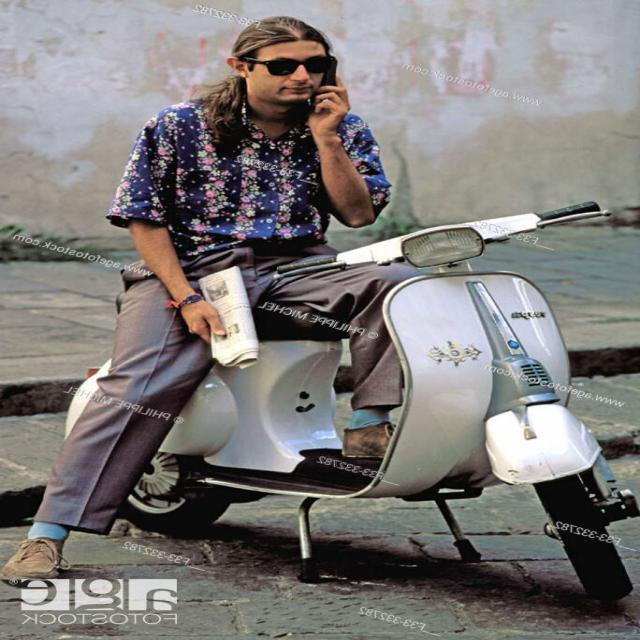no_helmet: (223, 17, 334, 113)
